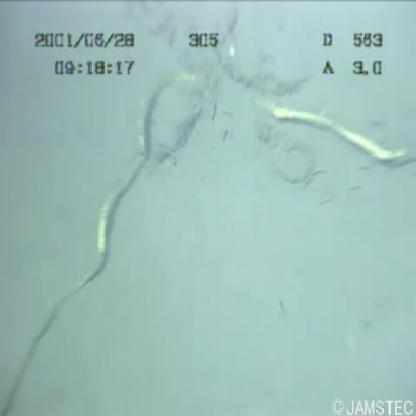Rác: (14, 1, 416, 378)
